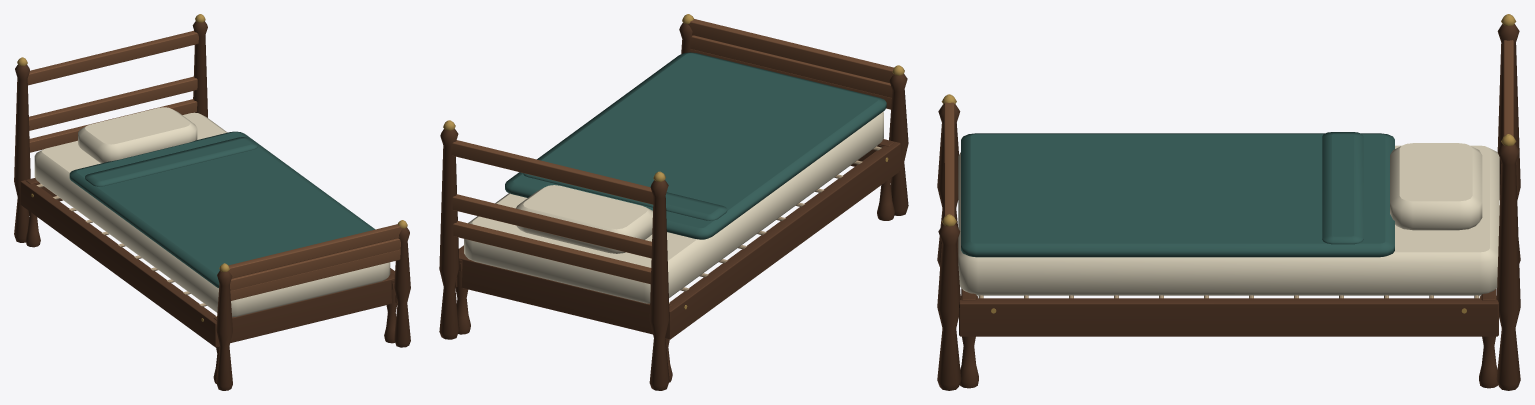
File: rpg-mansion-rope-sprung-single-bed-01.glb
3 renders of one model, left to right at view 1: azimuth 30°, elevation 25°; view 2: azimuth 150°, elevation 25°; view 3: azimuth 270°, elevation 25°, orthographic. The views are drawn at different scales.
Parts seen in each view (by area): view 1: rpg-mansion-rope-sprung-single-bed-01; view 2: rpg-mansion-rope-sprung-single-bed-01; view 3: rpg-mansion-rope-sprung-single-bed-01.
Boxes of the visible parts, x1,y1,x2,y2 form: rpg-mansion-rope-sprung-single-bed-01: (14, 14, 410, 390); rpg-mansion-rope-sprung-single-bed-01: (439, 14, 908, 390); rpg-mansion-rope-sprung-single-bed-01: (937, 14, 1520, 390).
Bounding box in the file's own units: 1.12 × 1.01 × 2.12.
